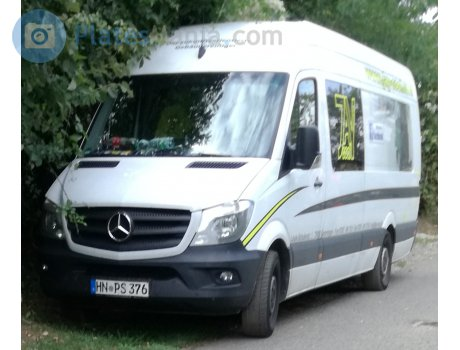License Plates: (93, 281, 141, 292)
